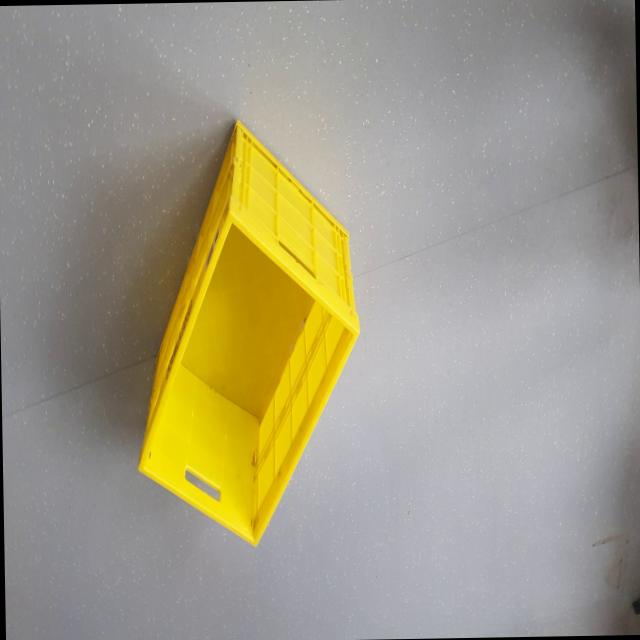box: (127, 105, 364, 560)
